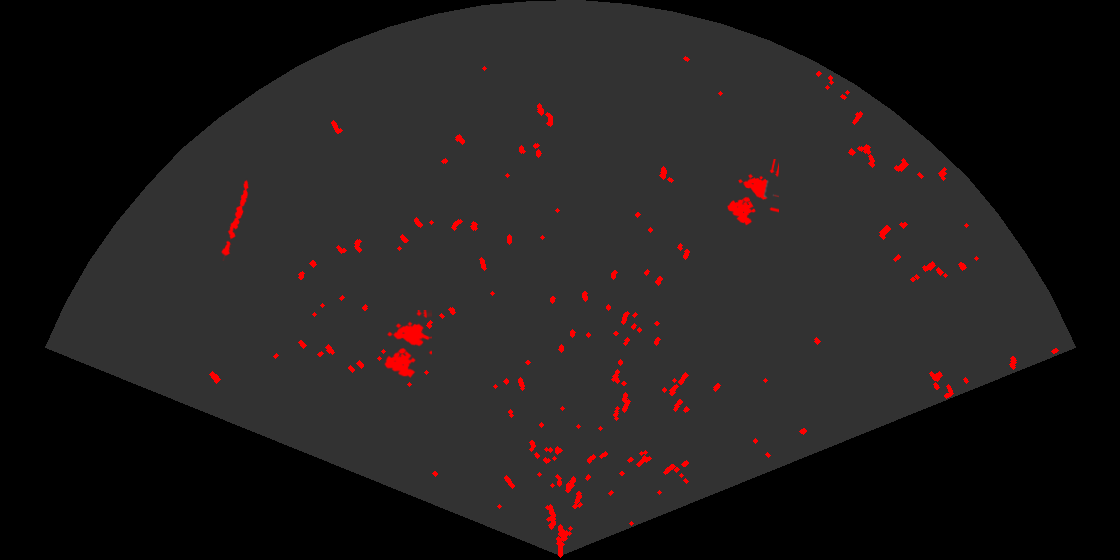cage: (726, 159, 779, 227), (383, 310, 432, 380)
chain: (220, 178, 250, 261)
